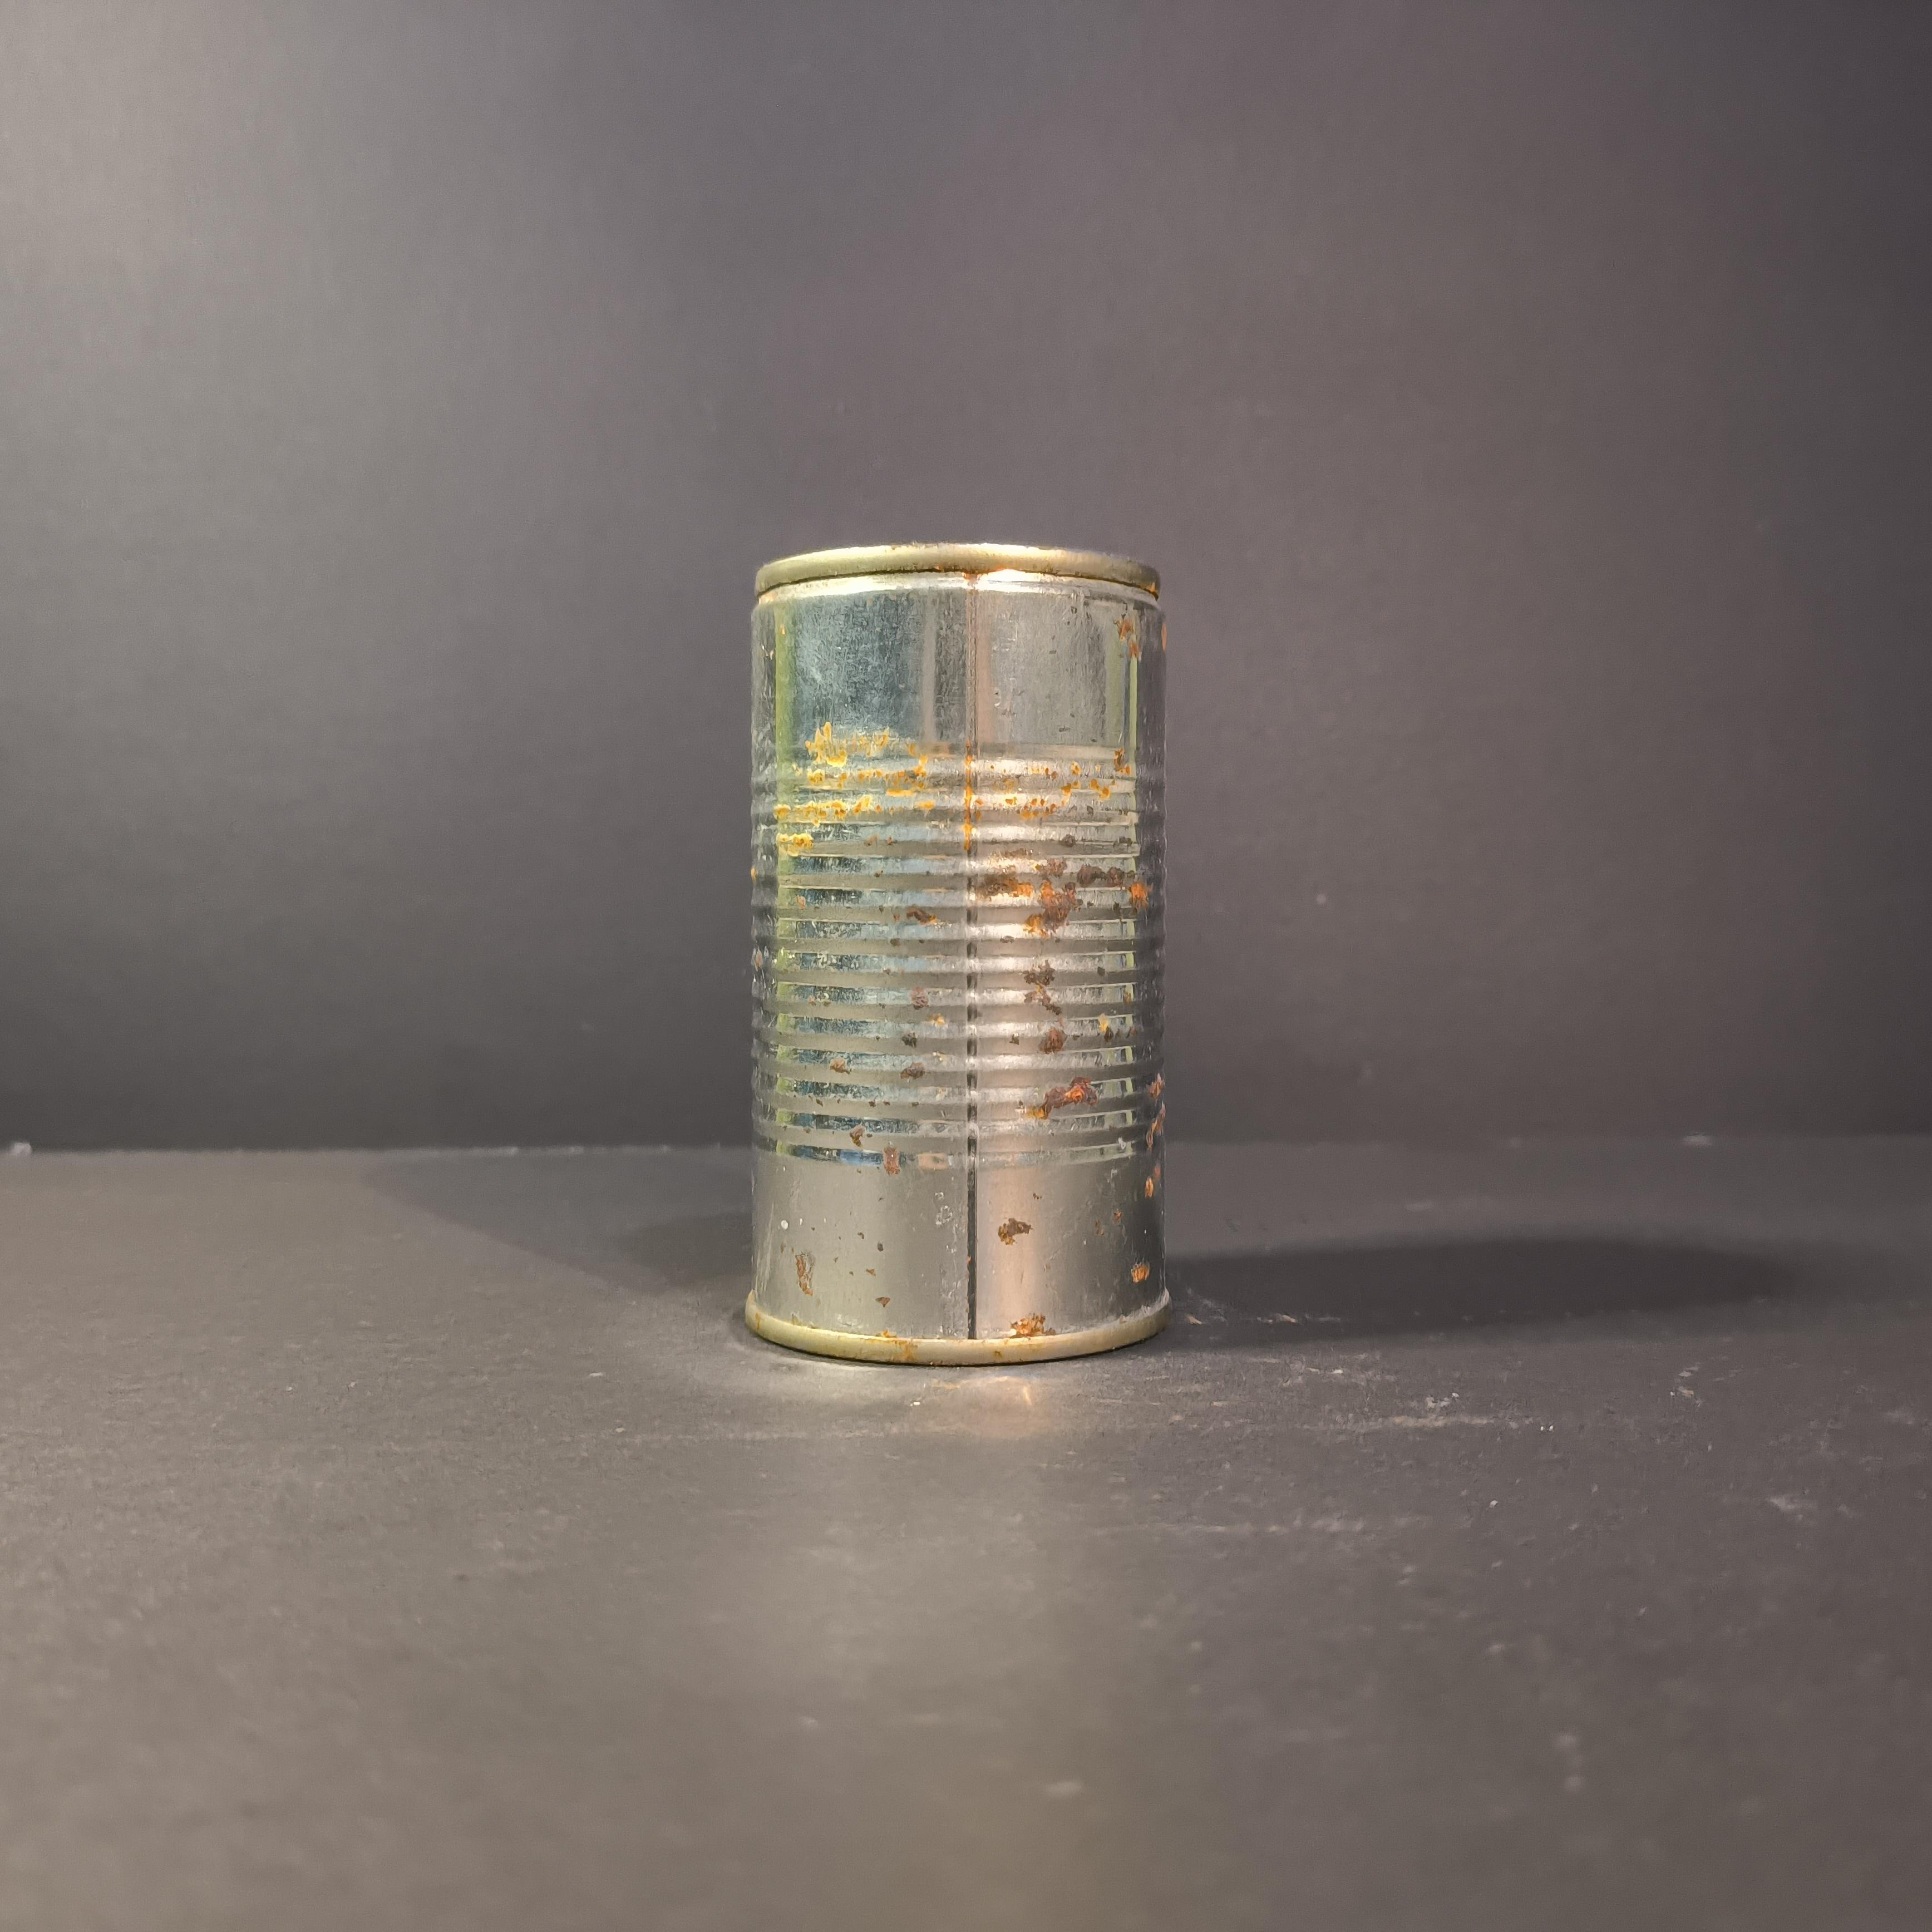Rusted: (729, 524, 1185, 1380)
